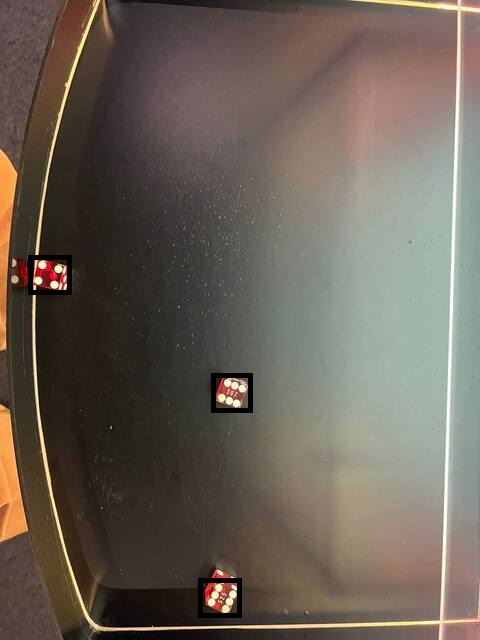four: (30, 257, 69, 292)
six: (200, 580, 239, 615), (213, 375, 250, 410)
